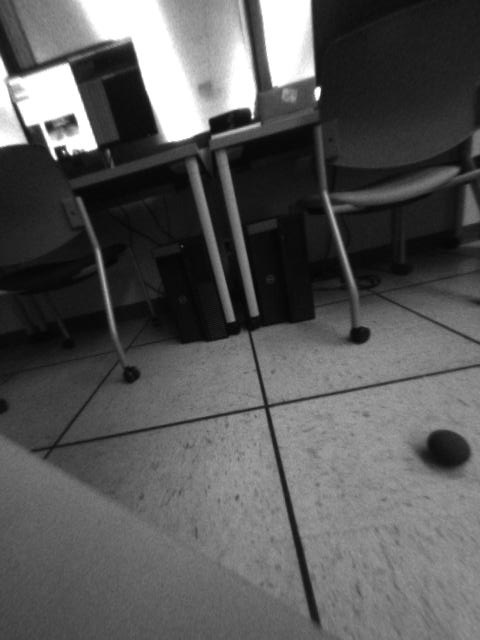dogtoy: (417, 419, 475, 479)
